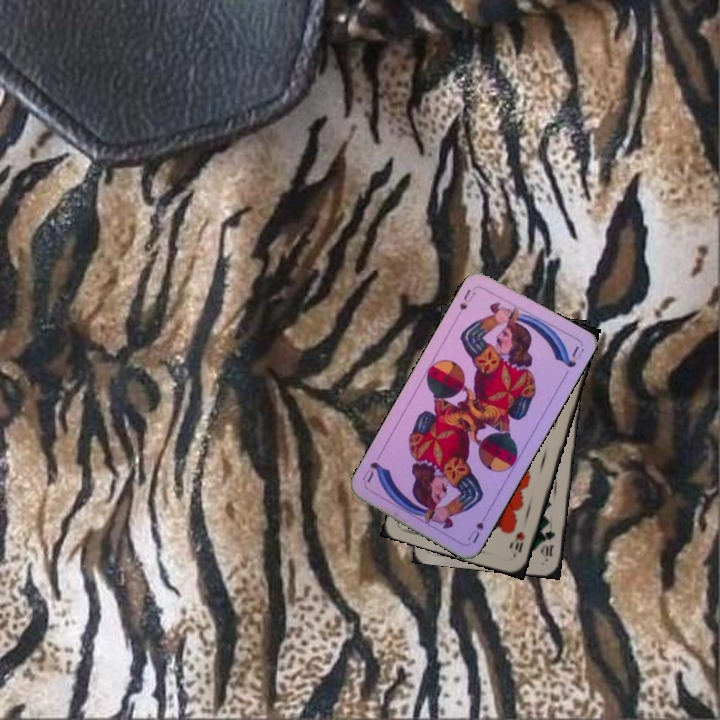G10: (538, 526, 558, 559)
H10: (511, 528, 528, 555)
SU: (463, 509, 491, 546), (455, 285, 478, 313)
